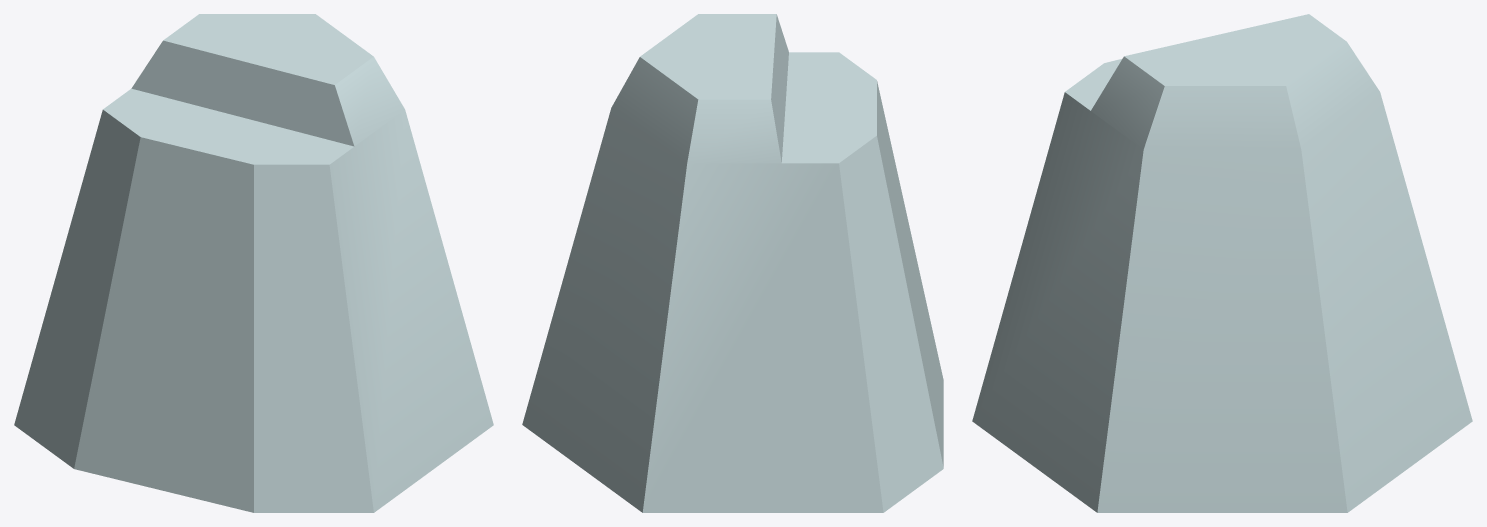
File: stone_tall5.glb
The picture shows the model from 3 angles, left to right: view 1: azimuth 30°, elevation 25°; view 2: azimuth 150°, elevation 25°; view 3: azimuth 270°, elevation 25°; orthographic projection. The views are drawn at different scales.
Visible parts, largest first — view 1: stone_tall5; view 2: stone_tall5; view 3: stone_tall5.
Part boxes in pixels (left/top/right/bottom): stone_tall5: left=14, top=14, right=493, bottom=512; stone_tall5: left=522, top=14, right=943, bottom=512; stone_tall5: left=972, top=14, right=1472, bottom=512.
Bounding box in the file's own units: 0.4562 × 0.4438 × 0.5268.
